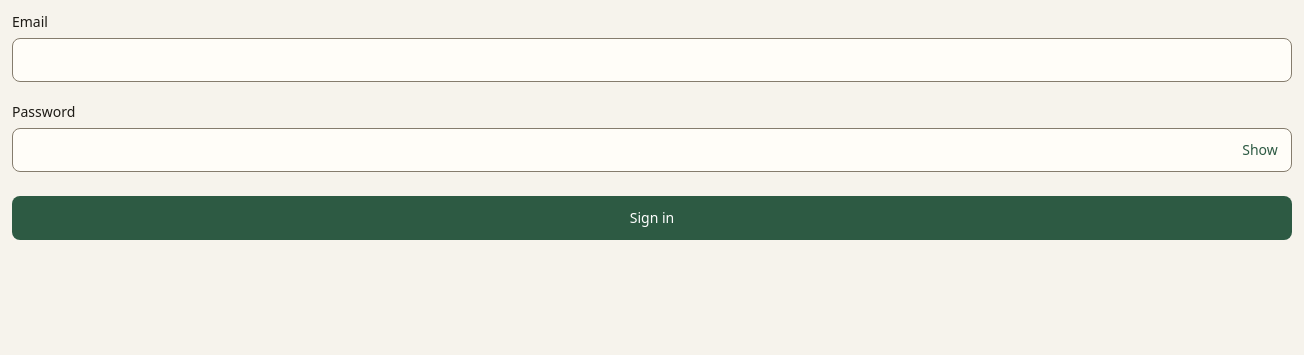
Test case: SignInForm › announces and focuses wrong credentials without clearing the email
Type "ada@example.com" into the field labelled "Email" at [652, 60], box 12,38 -> 1292,82
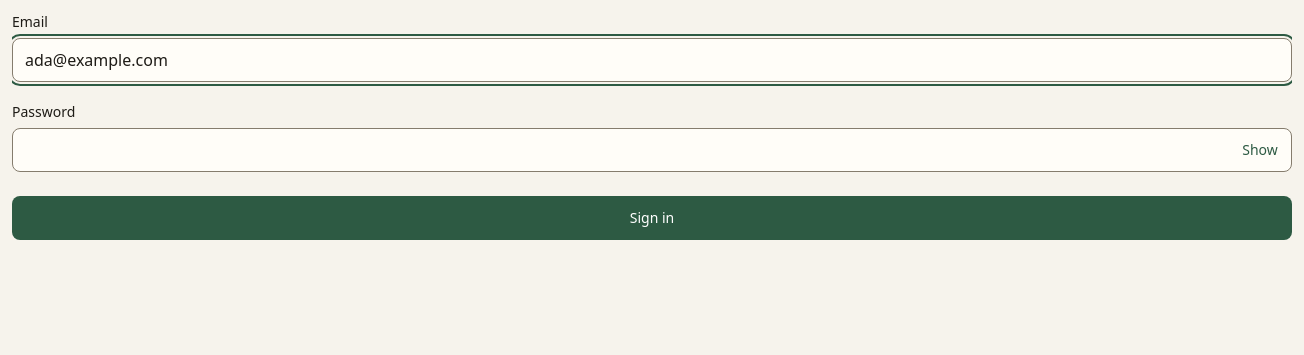
Type "wrong passphrase" into the password field labelled "Password" at [652, 150], box 12,128 -> 1292,172
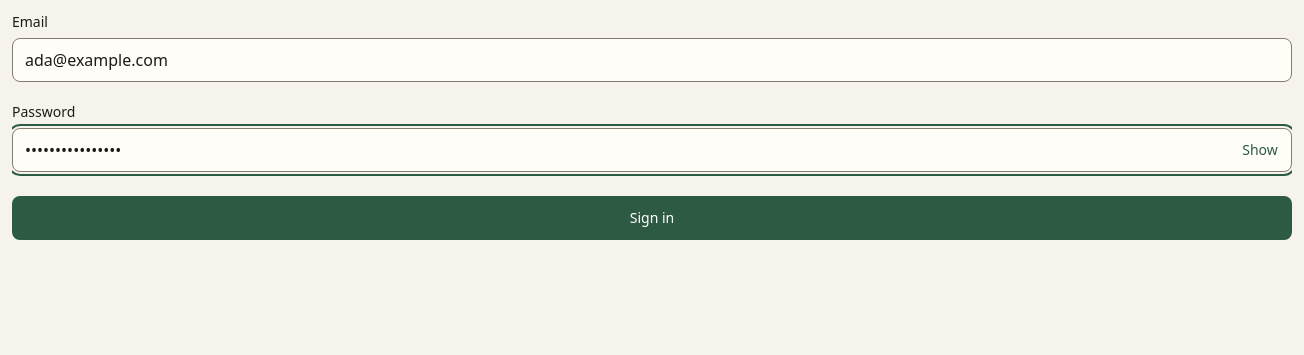
Click the button "Sign in" at [652, 218], box 12,196 -> 1292,240
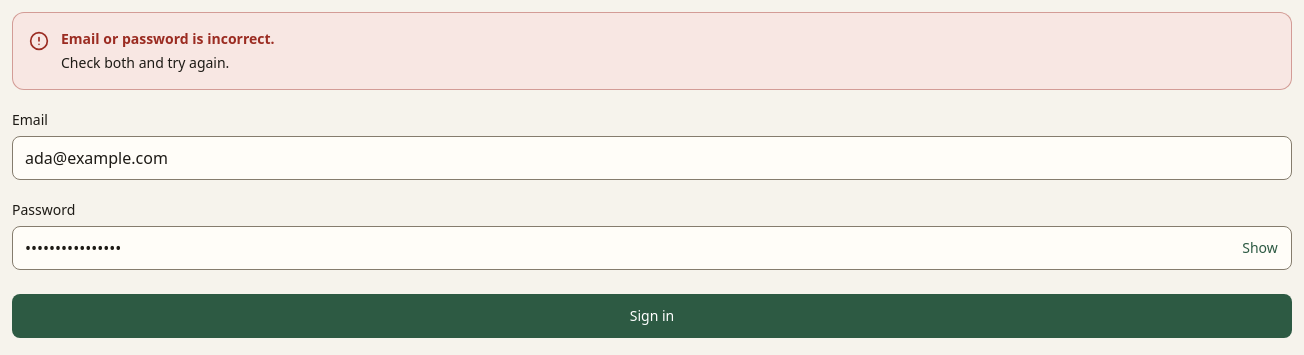
Check: the message shows "Email or password is incorrect.", box 61,29 -> 274,48
